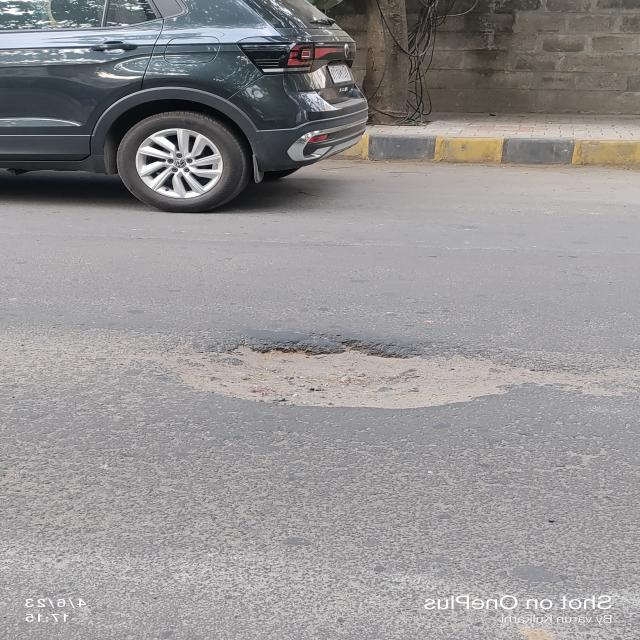potholes: (131, 332, 564, 417)
